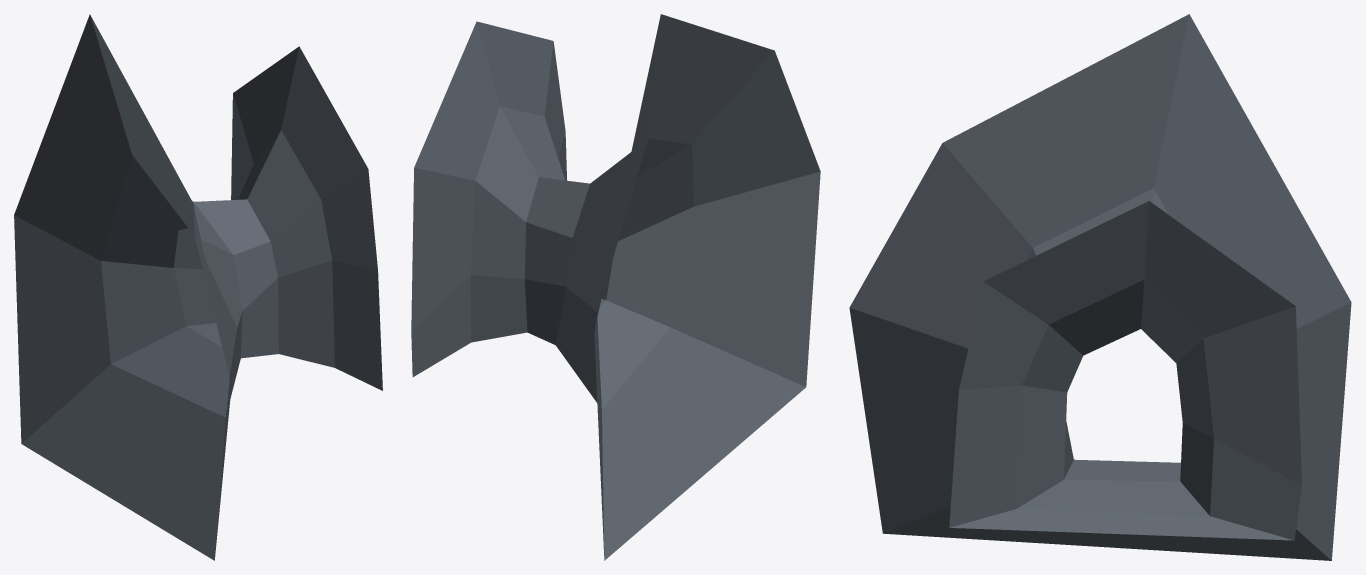
Rendered from DomeExit-adapter-07.fbx.
3 renders of one model, left to right at view 1: azimuth 30°, elevation 25°; view 2: azimuth 150°, elevation 25°; view 3: azimuth 270°, elevation 25°, orthographic. The views are drawn at different scales.
Visible parts, largest first — view 1: DomeExit-adapter-07; view 2: DomeExit-adapter-07; view 3: DomeExit-adapter-07.
Boxes of the visible parts, x1=… form: DomeExit-adapter-07: x1=14, y1=14, x2=382, y2=560; DomeExit-adapter-07: x1=411, y1=14, x2=820, y2=560; DomeExit-adapter-07: x1=849, y1=14, x2=1351, y2=560.
Size of the model in its own units: 556 by 1259 by 1039.
